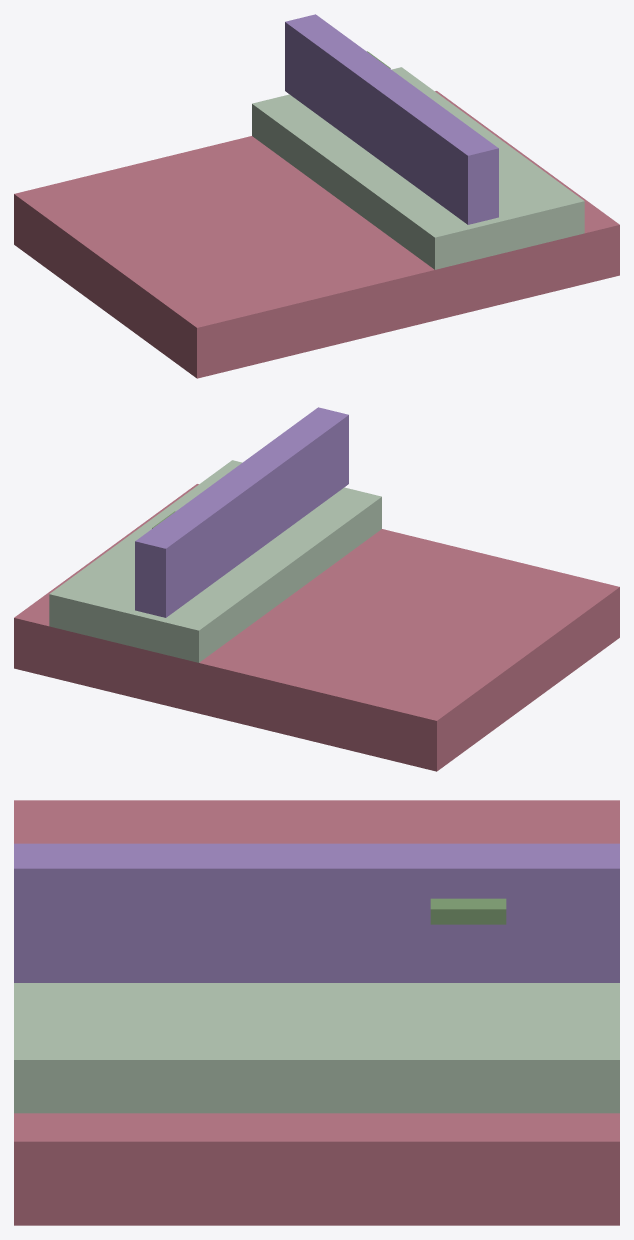
The picture shows the model from 3 angles, top to bottom: view 1: azimuth 30°, elevation 25°; view 2: azimuth 150°, elevation 25°; view 3: azimuth 270°, elevation 25°; orthographic projection. The views are drawn at different scales.
Visible parts, largest first — view 1: world; view 2: world; view 3: world.
Boxes of the visible parts, x1,y1,x2,y2 form: world: (14, 14, 619, 378); world: (14, 407, 619, 771); world: (14, 800, 619, 1225).
Size of the model in its own units: 9.6 by 3.4 by 7.2.
